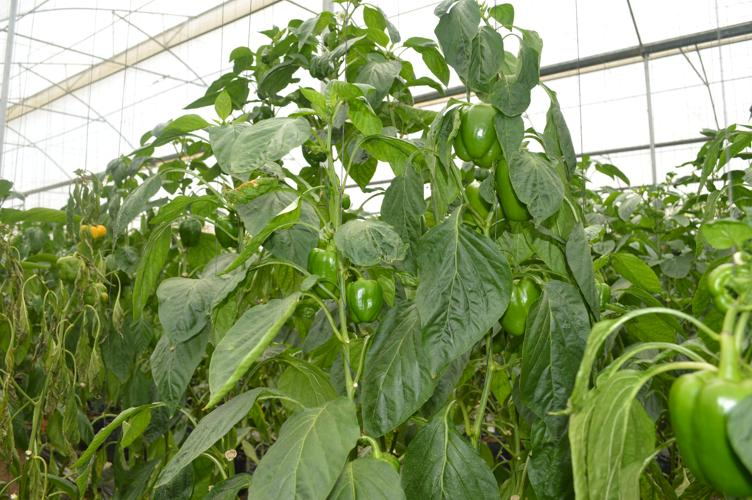BellPepper: (670, 355, 752, 495), (451, 104, 503, 169), (302, 239, 345, 303), (496, 168, 537, 230), (500, 277, 541, 337), (347, 279, 384, 328), (214, 214, 245, 248), (179, 214, 202, 248)
